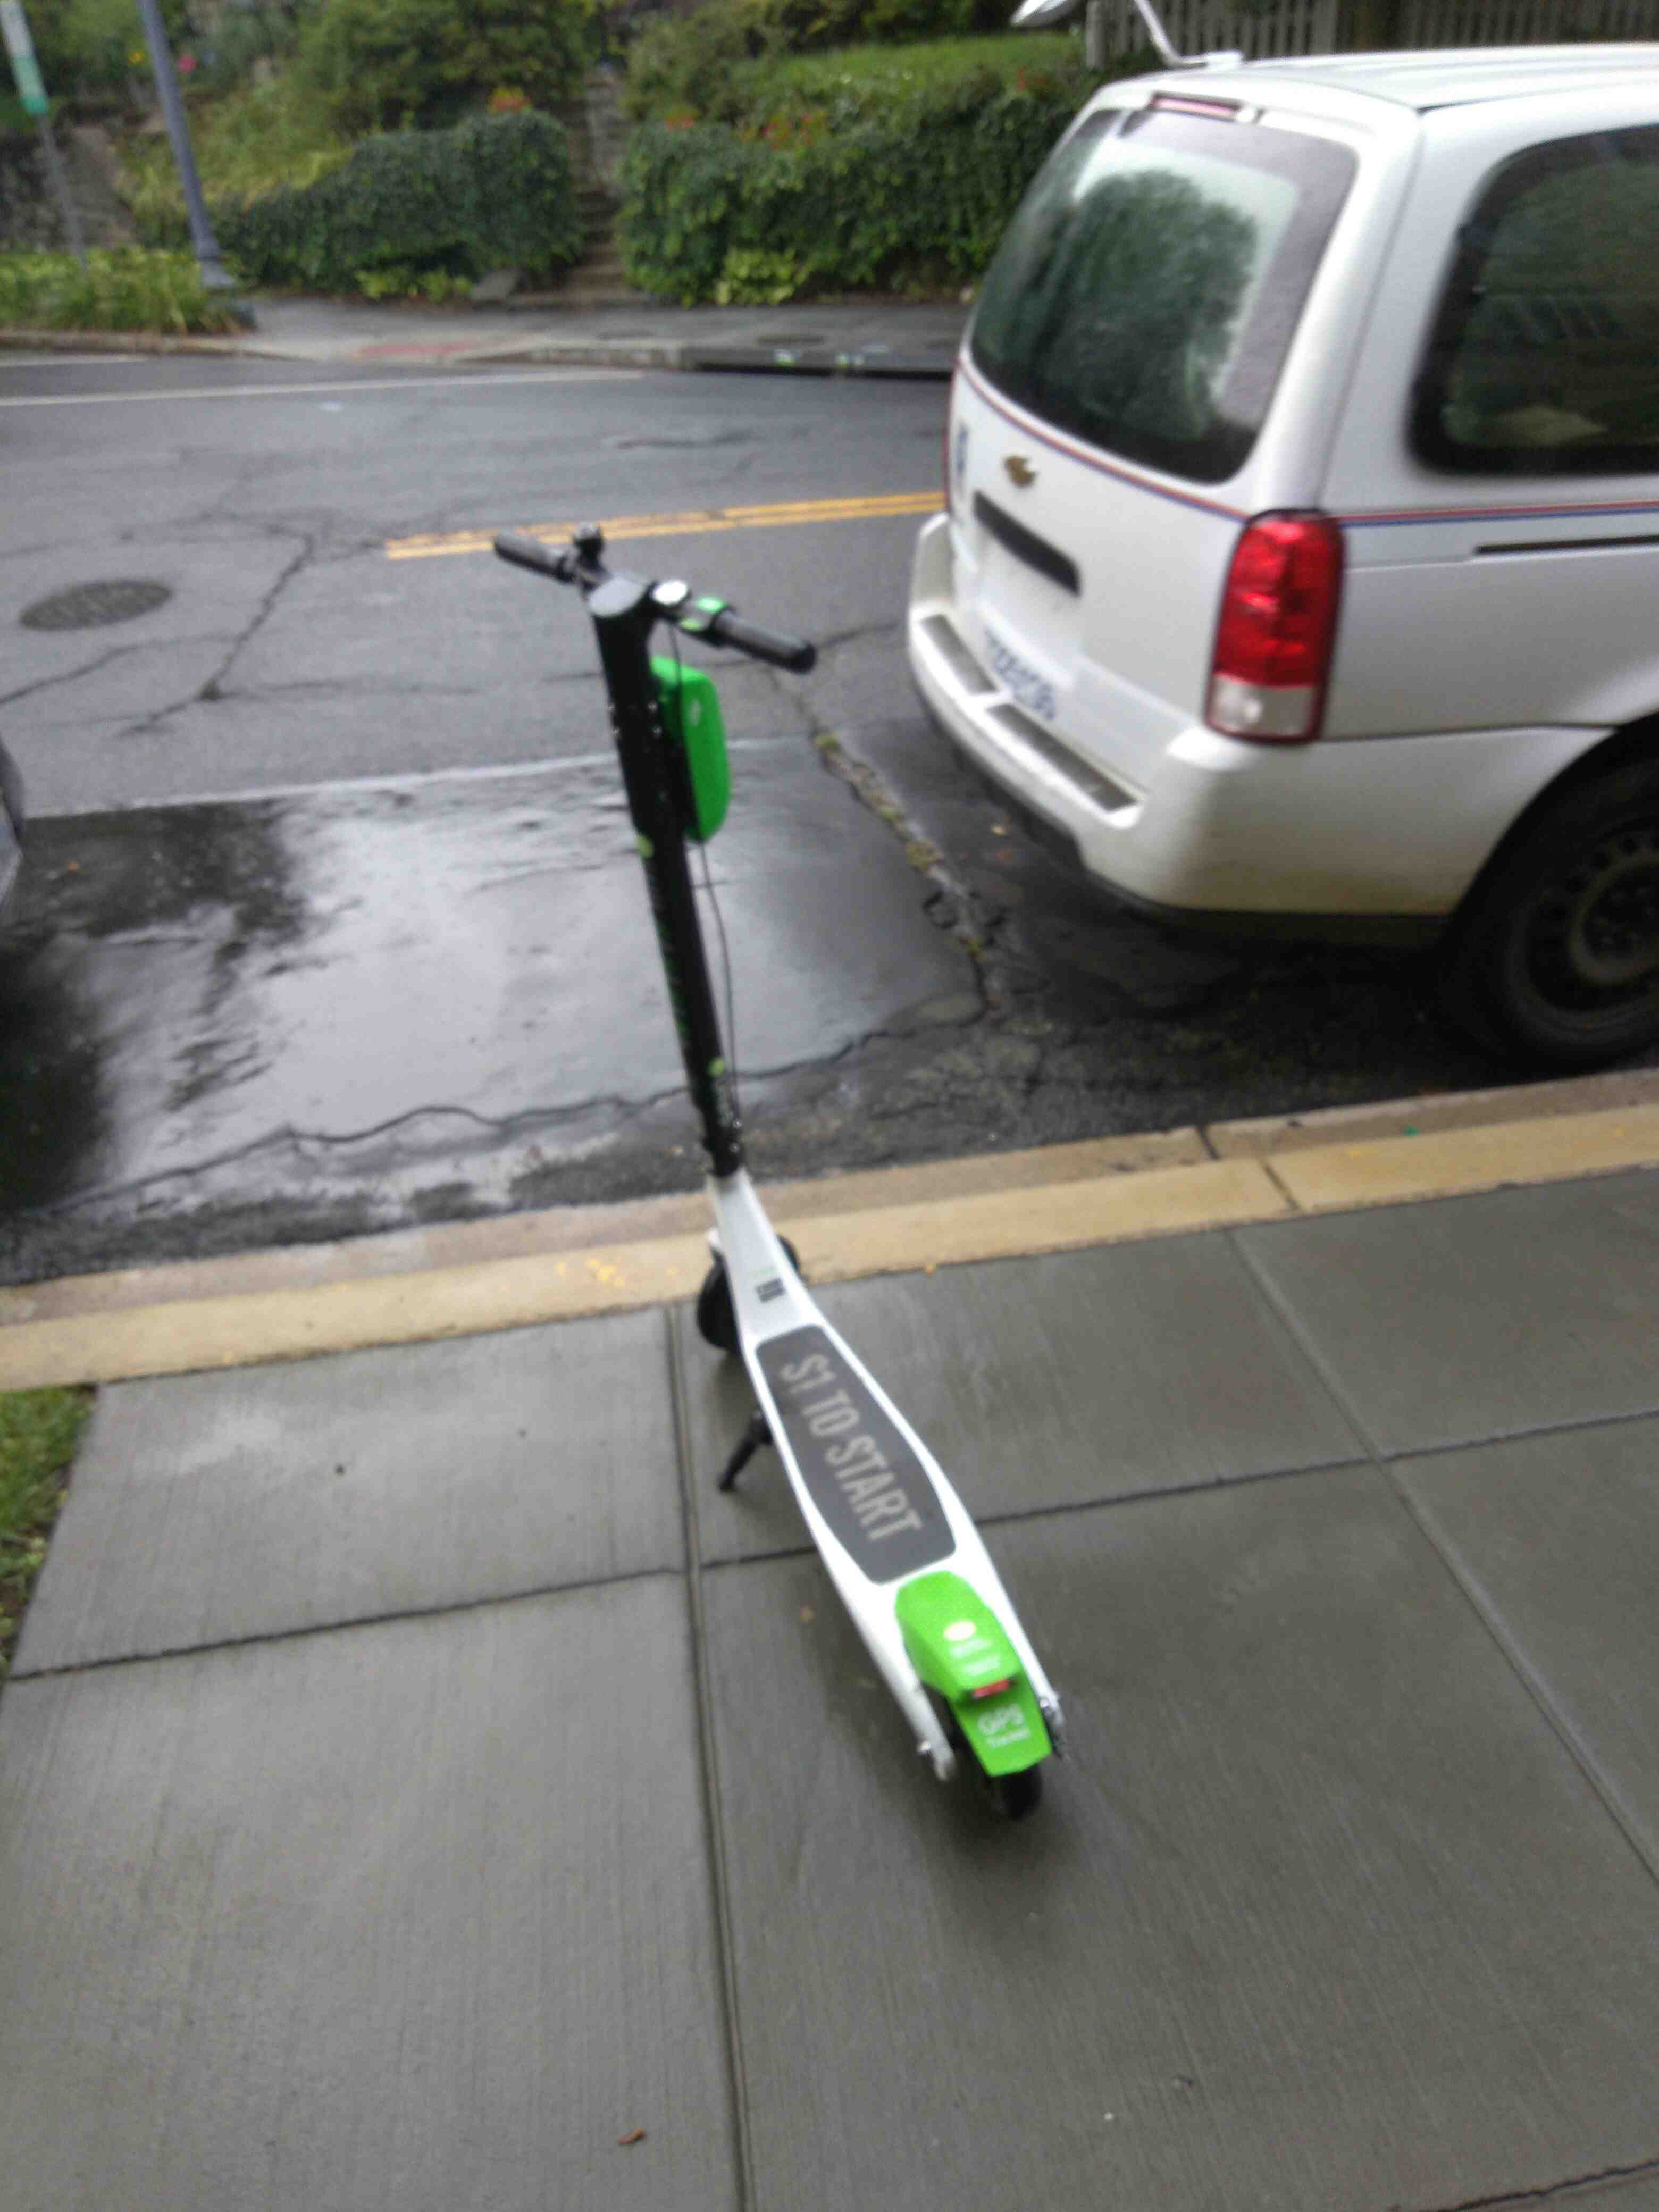scooter: (368, 516, 1115, 1858)
